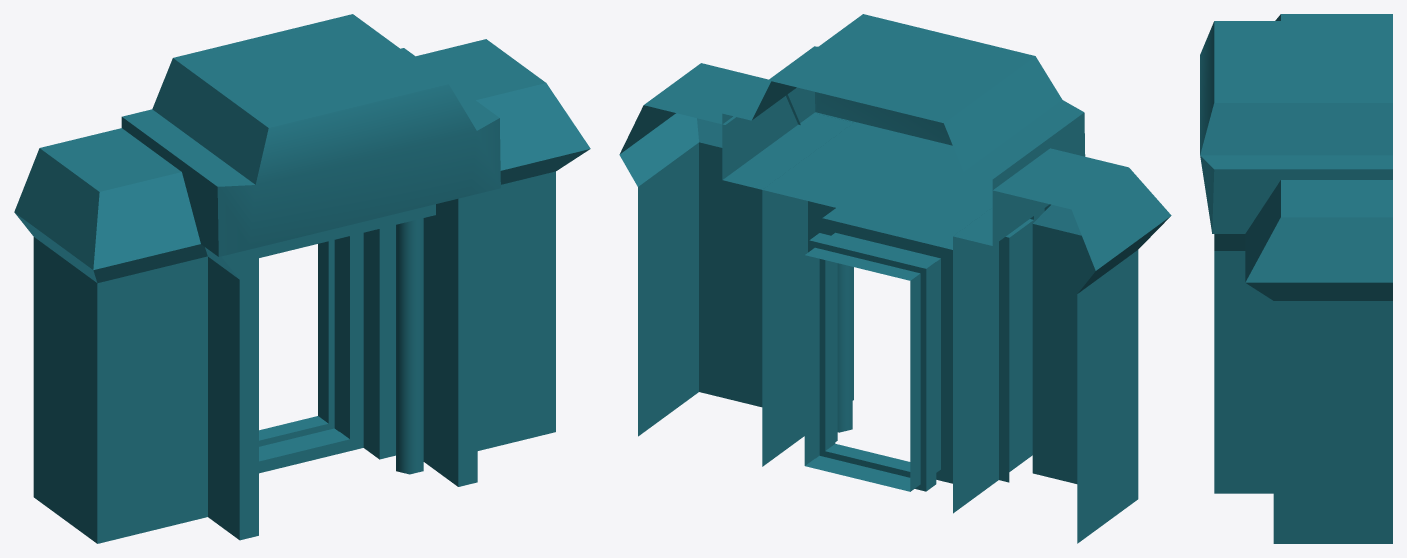
The model's file is doorwayAssy.FBX.
The picture shows the model from 3 angles, left to right: view 1: azimuth 30°, elevation 25°; view 2: azimuth 150°, elevation 25°; view 3: azimuth 270°, elevation 25°; orthographic projection. The views are drawn at different scales.
Parts seen in each view (by area): view 1: doorway_pillar_outer, doorway_frame2, doorway_frame, doorway_pillar_inner001; view 2: doorway_pillar_outer, doorway_frame2, doorway_frame, doorway_pillar_inner001; view 3: doorway_pillar_outer, doorway_frame2.
Boxes of the visible parts, bbox=[...] form: doorway_pillar_outer: bbox=[14, 39, 590, 543]; doorway_frame2: bbox=[121, 14, 500, 256]; doorway_frame: bbox=[259, 204, 435, 473]; doorway_pillar_inner001: bbox=[396, 218, 423, 474]; doorway_pillar_outer: bbox=[619, 63, 1171, 543]; doorway_frame2: bbox=[722, 14, 1085, 245]; doorway_frame: bbox=[804, 201, 1033, 491]; doorway_pillar_inner001: bbox=[837, 263, 852, 432]; doorway_pillar_outer: bbox=[1214, 14, 1392, 543]; doorway_frame2: bbox=[1200, 21, 1392, 233].
Bounding box in the file's own units: 8.99 × 7 × 3.24.
